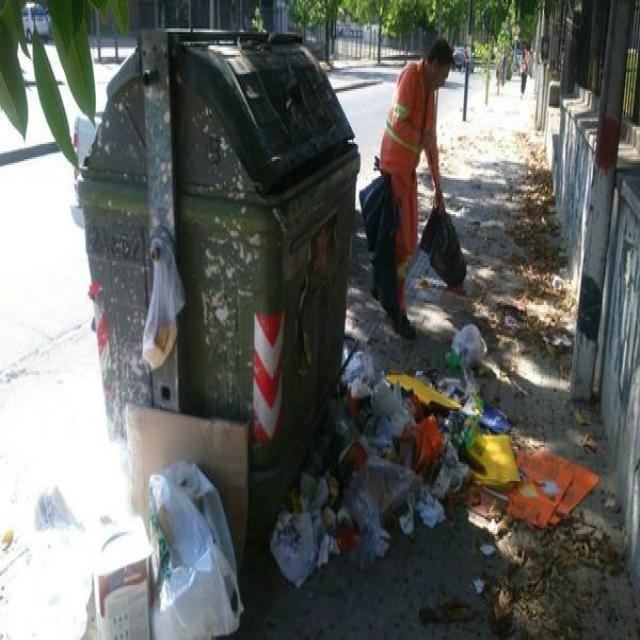garbage: (267, 362, 514, 584), (47, 454, 222, 636)
